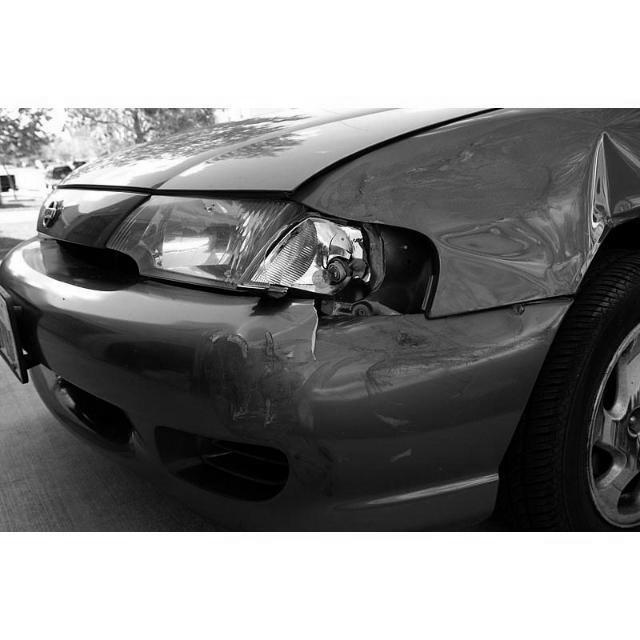Headlight-damage: (210, 198, 435, 323)
fender-dent: (335, 146, 639, 322)
front-bumper-dent: (119, 310, 563, 522)
